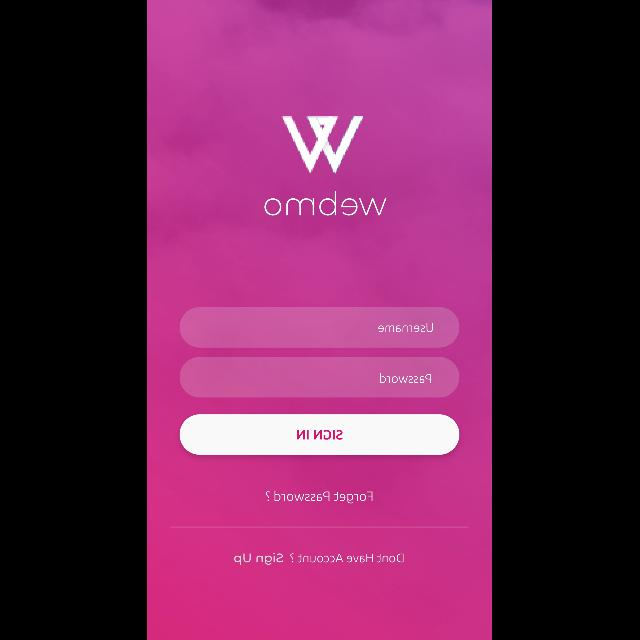image: (282, 116, 364, 174)
input: (180, 307, 460, 347), (180, 357, 460, 397)
text: (265, 192, 387, 216), (235, 553, 405, 565), (266, 491, 374, 504), (381, 373, 432, 383), (378, 323, 434, 332)
textbutton: (180, 415, 460, 455)
